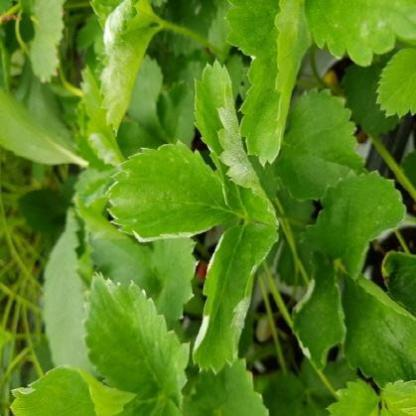Strawberry_Powdery_Mildew_Leaf: (191, 58, 281, 229), (106, 138, 239, 243), (192, 222, 279, 376), (97, 0, 162, 139), (303, 0, 415, 68)
